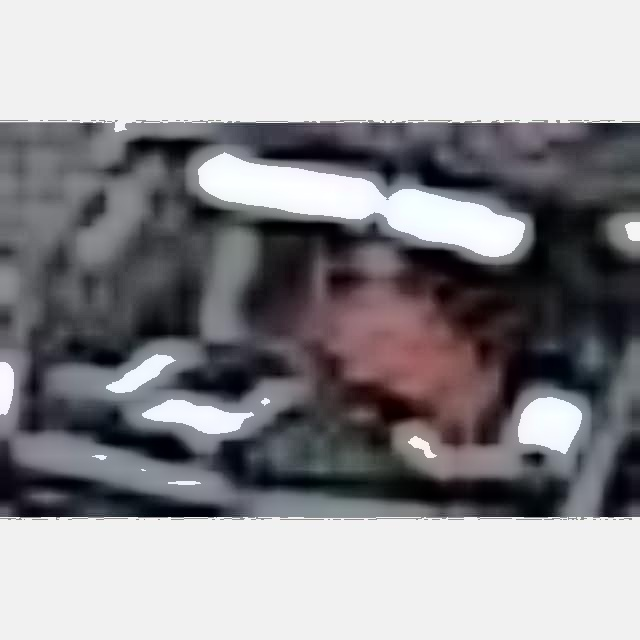tidak-pakai: (272, 246, 477, 436)
